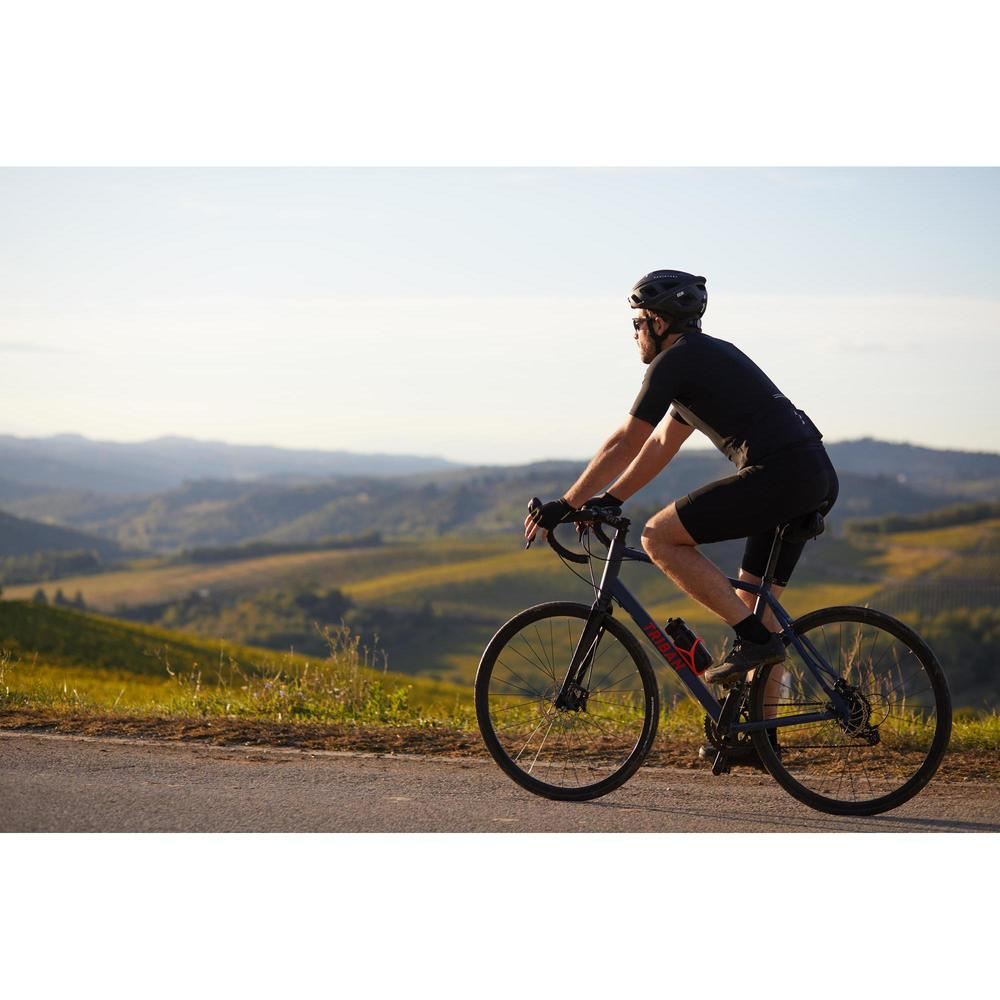RoadBike: (472, 491, 945, 818)
